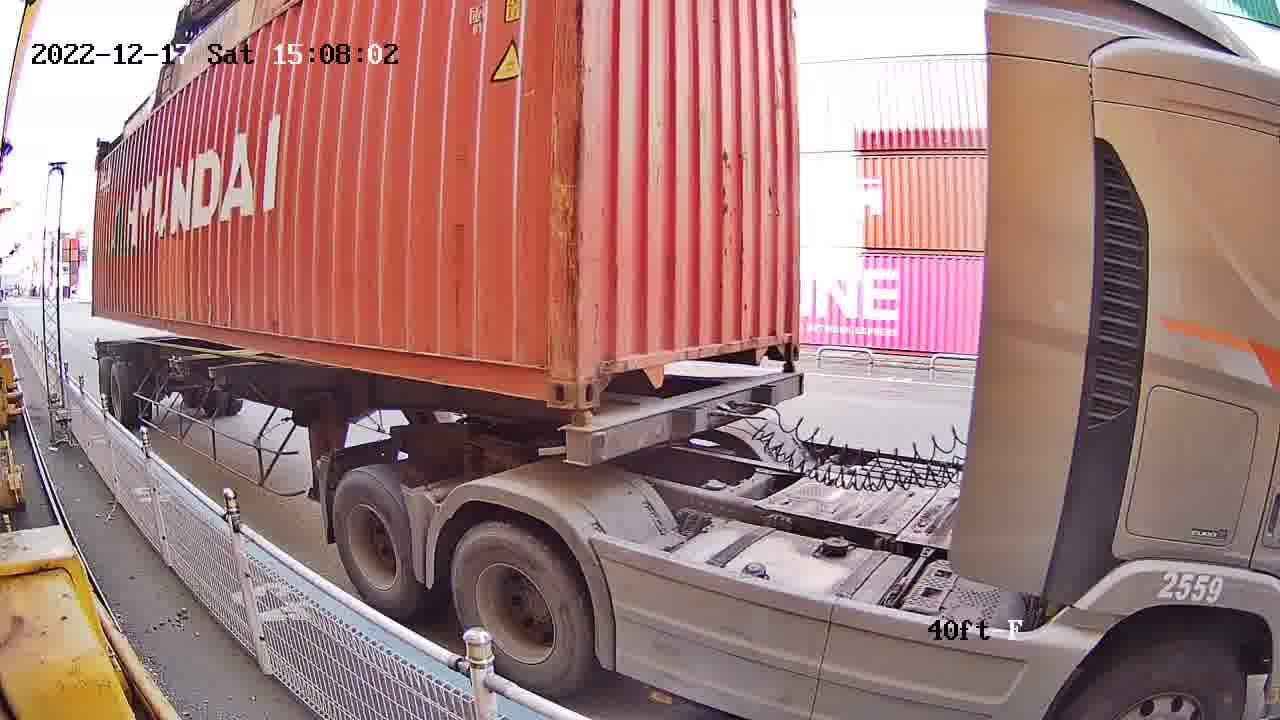Chassis: (586, 372, 801, 467)
Cone: (562, 408, 597, 463), (777, 362, 798, 391)
Hole_L: (579, 344, 631, 406)
Hole_R: (518, 345, 580, 403), (762, 316, 801, 364)
Tire: (450, 524, 592, 687), (331, 471, 415, 608)
